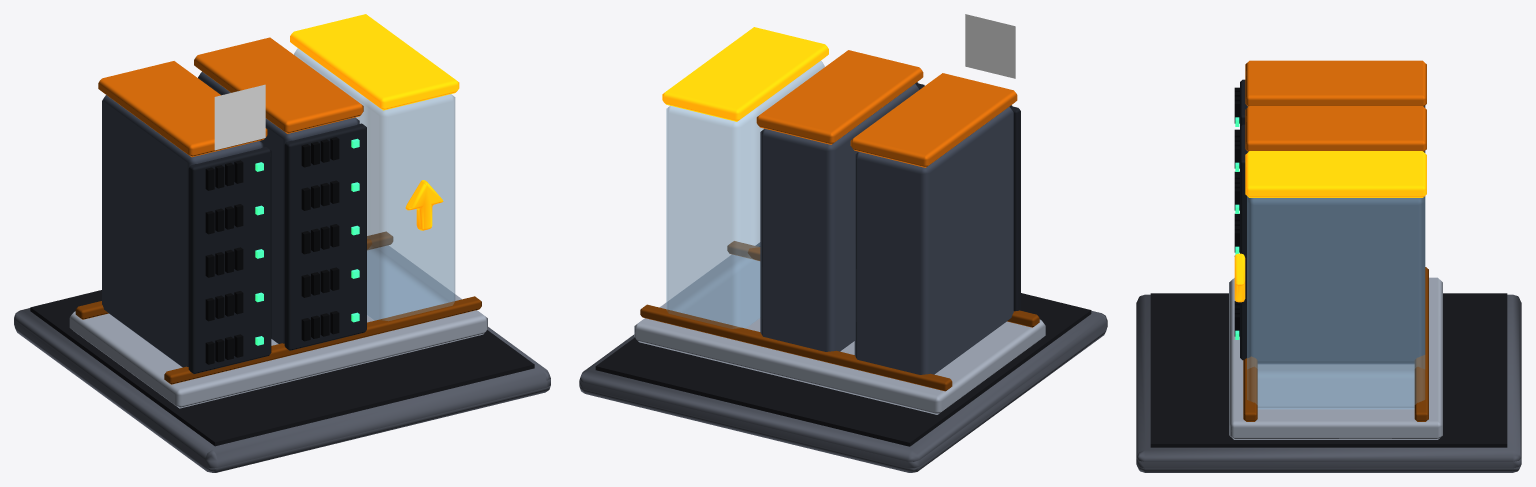
Rendered from asg.glb.
3 renders of one model, left to right at view 1: azimuth 30°, elevation 25°; view 2: azimuth 150°, elevation 25°; view 3: azimuth 270°, elevation 25°, orthographic. The views are drawn at different scales.
Parts seen in each view (by area): view 1: body.bezel, body.steel, body.glass, body.rubber, body.steel_light, body.concrete, body.accent, body.accent_glow, body.vent, body.accent_dark, body.badge, body.led; view 2: body.steel, body.glass, body.accent, body.steel_light, body.rubber, body.concrete, body.accent_glow, body.accent_dark, body.badge, body.bezel; view 3: body.glass, body.steel, body.rubber, body.steel_light, body.accent, body.concrete, body.accent_glow, body.accent_dark, body.bezel, body.vent.
Boxes of the visible parts, x1=… form: body.bezel: x1=188, y1=123, x2=366, y2=373; body.steel: x1=102, y1=71, x2=359, y2=367; body.glass: x1=294, y1=48, x2=455, y2=320; body.rubber: x1=30, y1=290, x2=534, y2=446; body.steel_light: x1=69, y1=245, x2=487, y2=408; body.concrete: x1=14, y1=308, x2=550, y2=472; body.accent: x1=98, y1=37, x2=363, y2=157; body.accent_glow: x1=290, y1=14, x2=459, y2=230; body.vent: x1=205, y1=137, x2=339, y2=364; body.accent_dark: x1=75, y1=231, x2=481, y2=384; body.badge: x1=214, y1=84, x2=265, y2=150; body.led: x1=255, y1=138, x2=359, y2=345; body.steel: x1=760, y1=84, x2=1013, y2=374; body.glass: x1=666, y1=61, x2=824, y2=328; body.accent: x1=756, y1=50, x2=1017, y2=167; body.steel_light: x1=634, y1=254, x2=1045, y2=414; body.rubber: x1=595, y1=246, x2=1091, y2=446; body.concrete: x1=579, y1=242, x2=1107, y2=472; body.accent_glow: x1=662, y1=27, x2=828, y2=121; body.accent_dark: x1=640, y1=241, x2=1039, y2=391; body.badge: x1=965, y1=14, x2=1015, y2=78; body.bezel: x1=915, y1=83, x2=1020, y2=311; body.glass: x1=1247, y1=196, x2=1425, y2=409; body.steel: x1=1247, y1=106, x2=1425, y2=364; body.rubber: x1=1150, y1=293, x2=1507, y2=447; body.steel_light: x1=1229, y1=277, x2=1442, y2=439; body.accent: x1=1245, y1=60, x2=1426, y2=151; body.concrete: x1=1136, y1=294, x2=1521, y2=472; body.accent_glow: x1=1234, y1=151, x2=1426, y2=302; body.accent_dark: x1=1243, y1=267, x2=1428, y2=421; body.bezel: x1=1240, y1=79, x2=1250, y2=360; body.vent: x1=1234, y1=87, x2=1239, y2=336.
Bounding box in the file's own units: 1.08 × 1 × 1.08.
